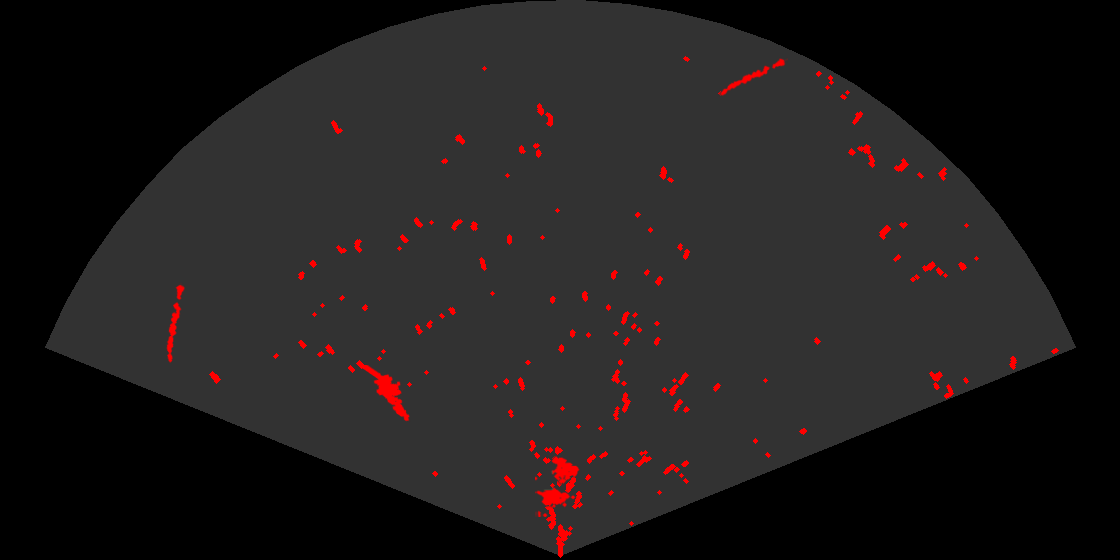cage: (535, 454, 581, 517)
chain: (718, 57, 788, 98), (165, 282, 186, 364)
frogman: (362, 365, 411, 423)
